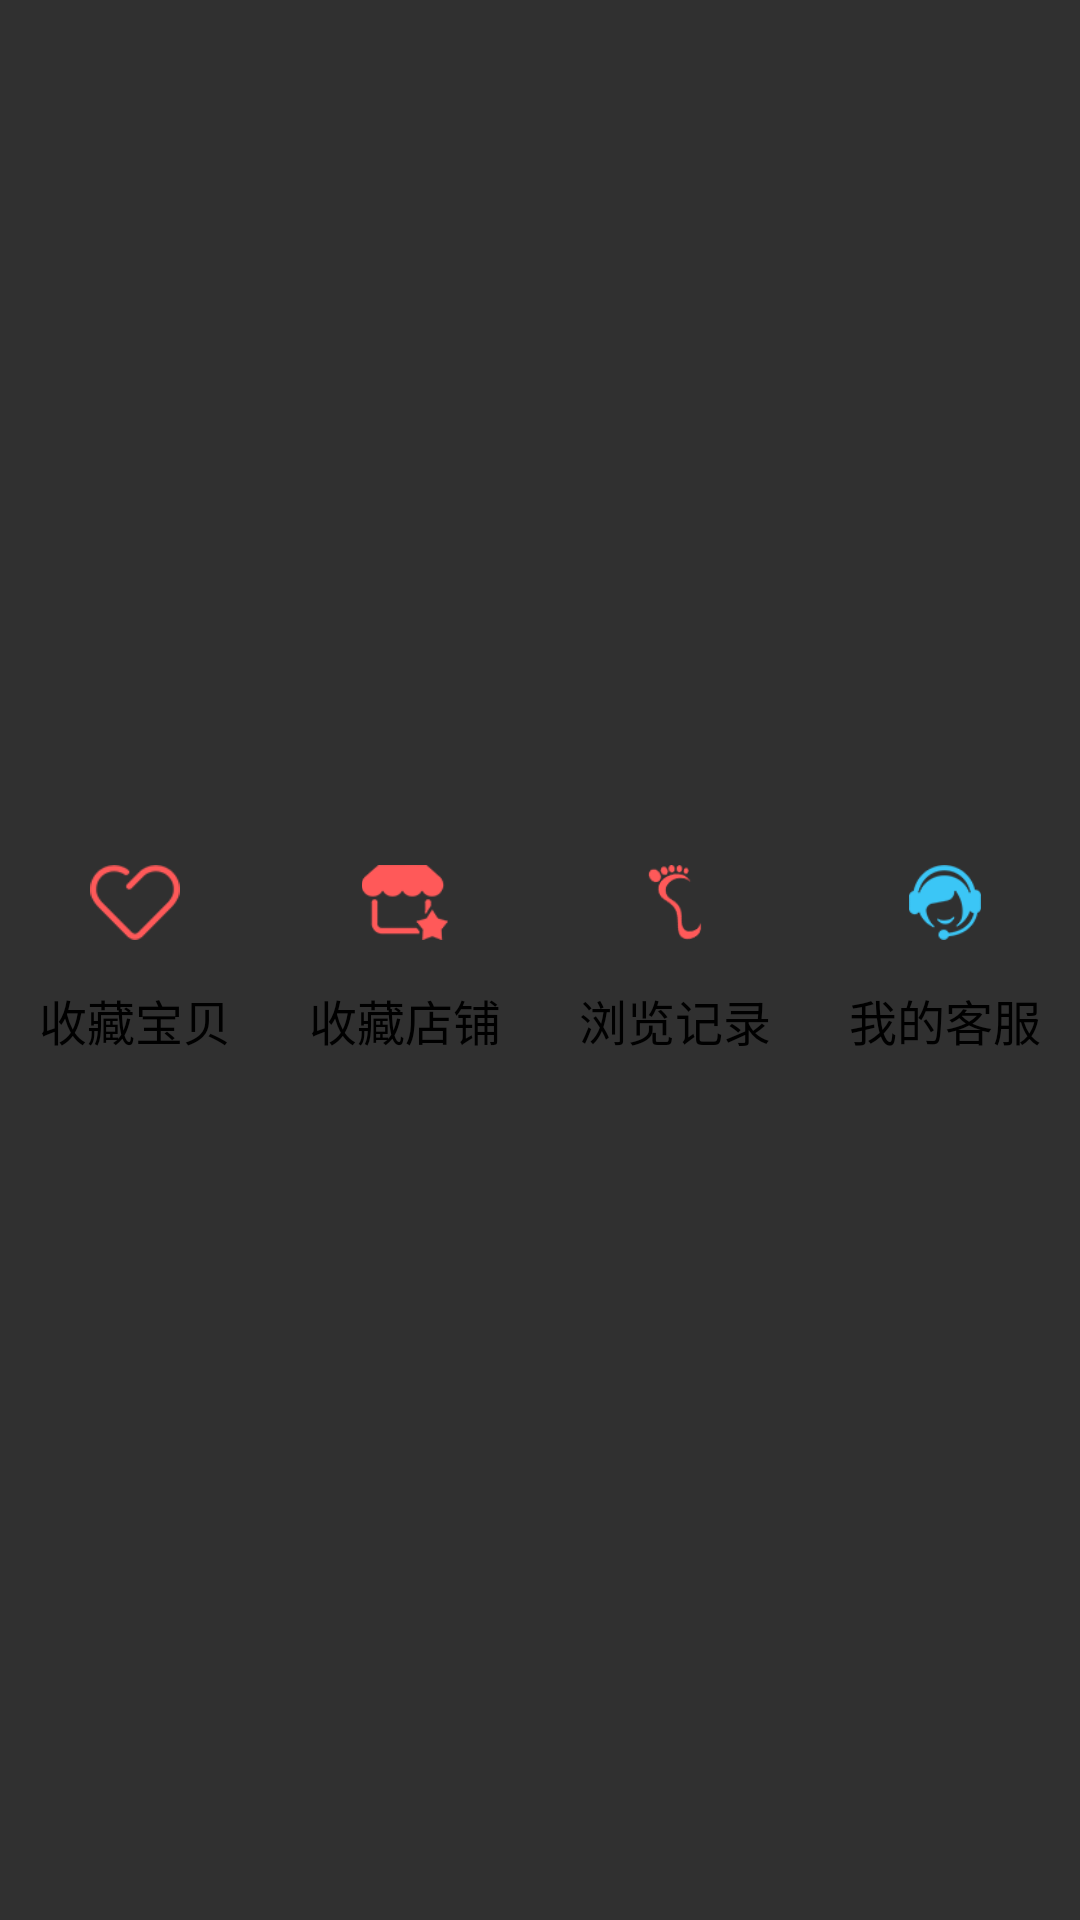

Screen size 1080x1920. Icon name, then its box in pixels as (x1, y1, x2, y2):
mycenter collectgood: (90, 865, 180, 940)
mycenter collectstore: (362, 865, 448, 940)
mycenter cookies: (648, 865, 701, 940)
mycenter service: (909, 865, 981, 940)
